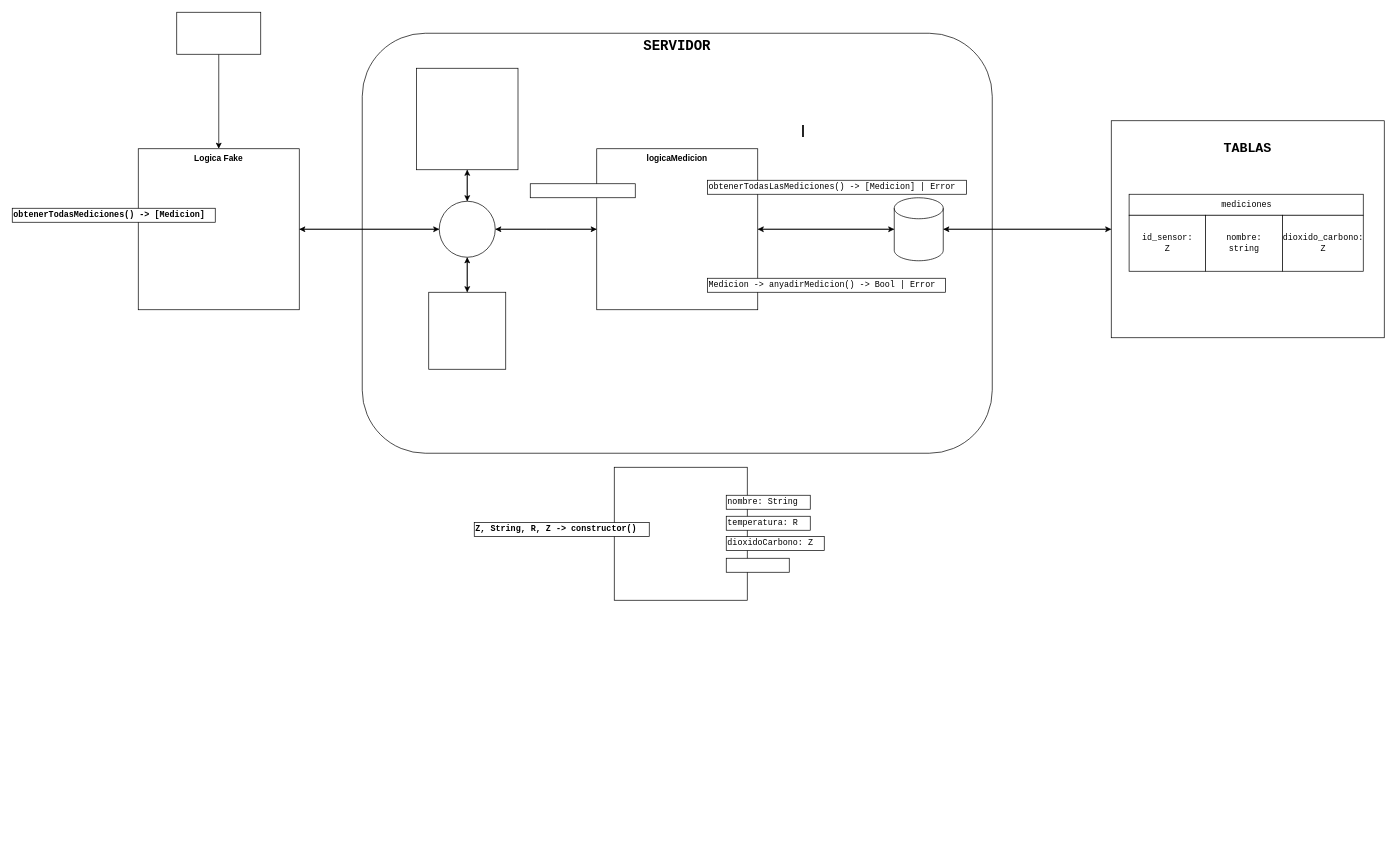
This 1397x863 diagram has some shape labels left out. The shapes that lost their labels are listed below. From the top down, each one's centre as x and y in pixels, then its label:
[218,33]: Cliente
[467,119]: ControladorMedicion
[582,190]: -> constructor() ->
[467,229]: Api Rest
[918,229]: DB
[467,330]: RouterMedicion
[680,533]: Medición
[757,565]: idSensor: Z
